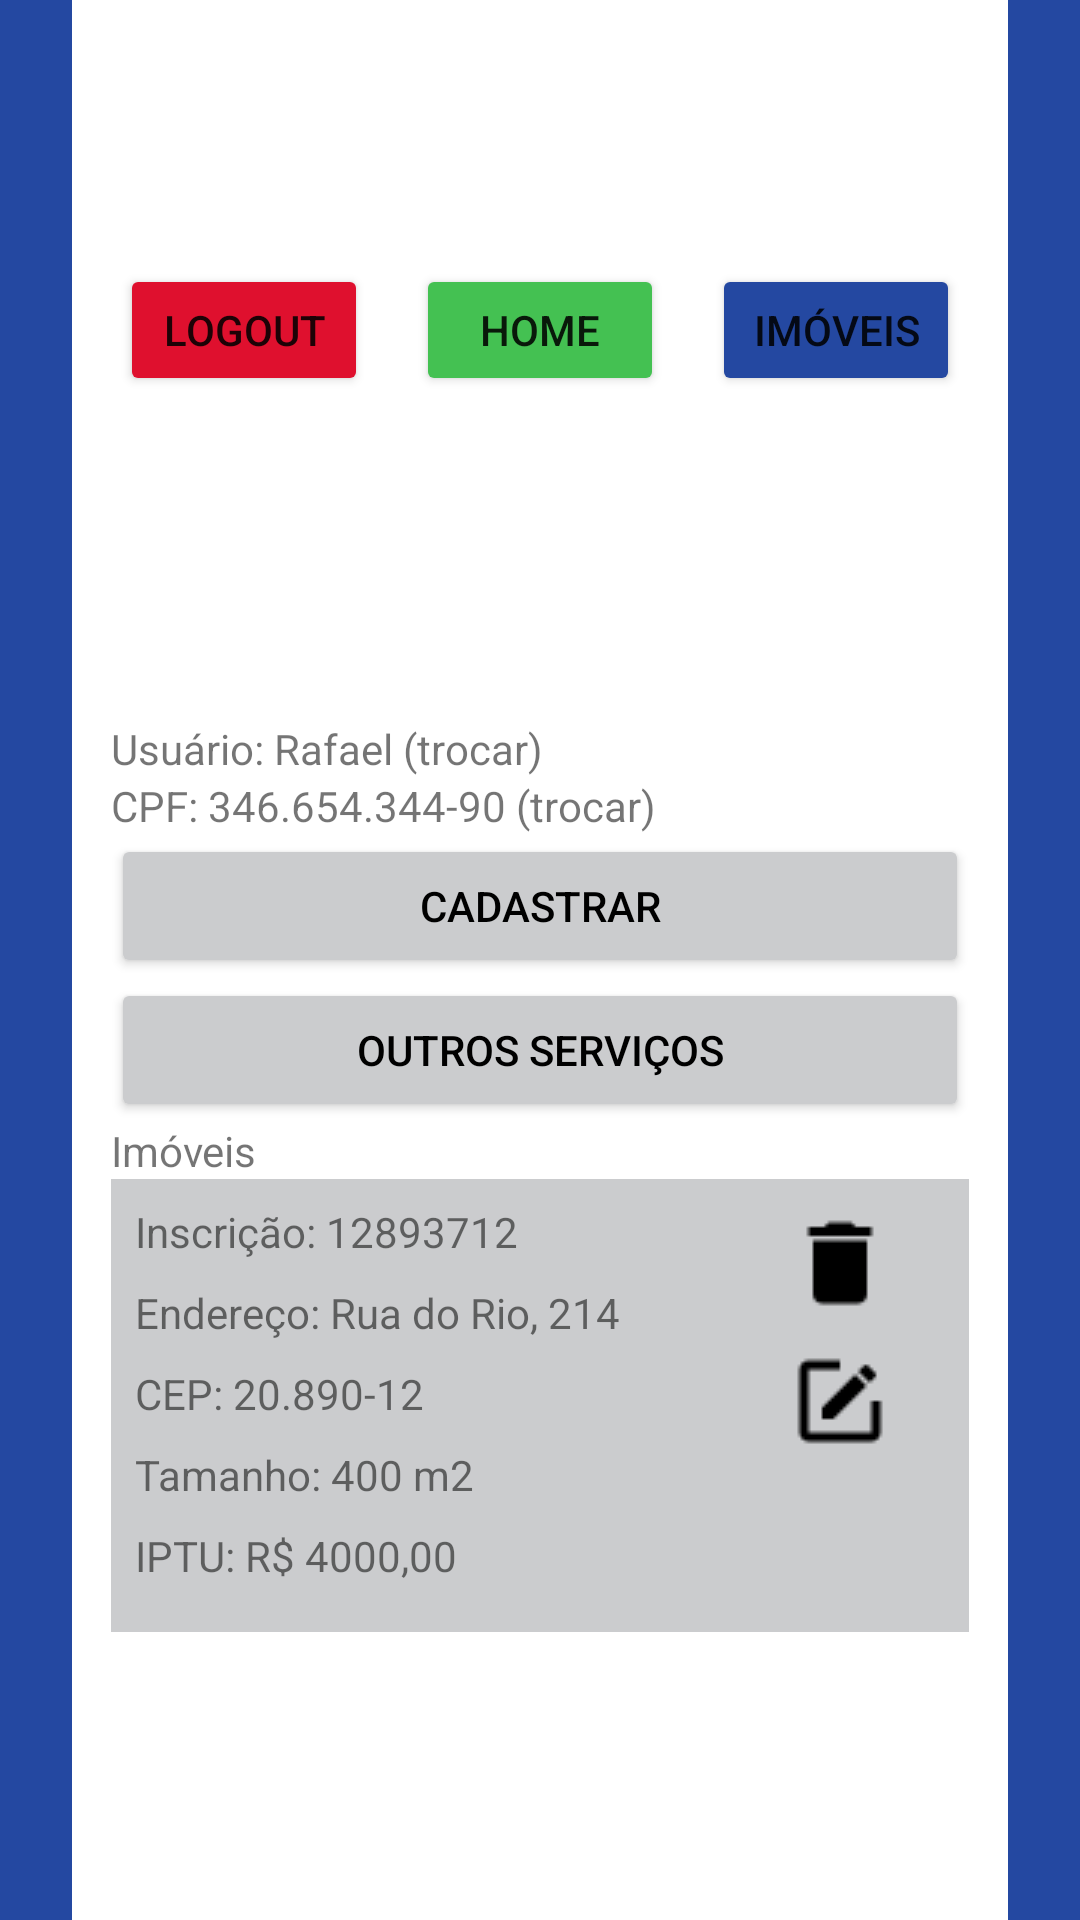

Screen size 1080px×1920px. Icon name, then its box in pixels as (x1, y1, x2, y2):
delete: (806, 1220, 874, 1306)
square edit: (797, 1358, 883, 1444)
